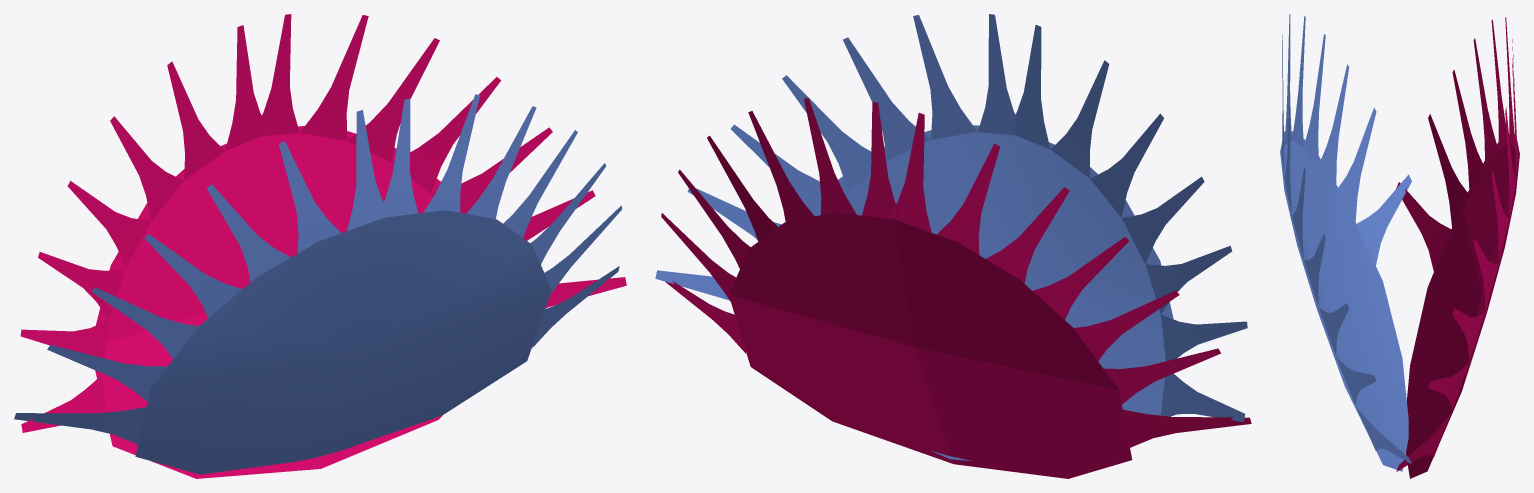
The model's file is neoprene_target.gltf.
3 views of the same model, side by side, from view 1: azimuth 30°, elevation 25°; view 2: azimuth 150°, elevation 25°; view 3: azimuth 270°, elevation 25° (orthographic). The views are drawn at different scales.
Visible parts, largest first — view 1: neoprene_target; view 2: neoprene_target; view 3: neoprene_target.
Part boxes in pixels (x1,y1,x2,y2): neoprene_target: (14,14,626,478); neoprene_target: (655,14,1251,478); neoprene_target: (1280,14,1519,478).
Bounding box in the file's own units: 0.5793 × 0.3758 × 0.2073.
